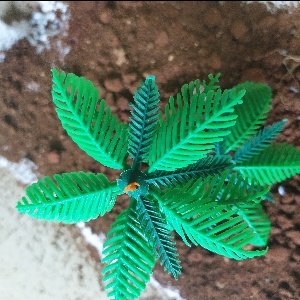plant: (15, 67, 300, 297)
